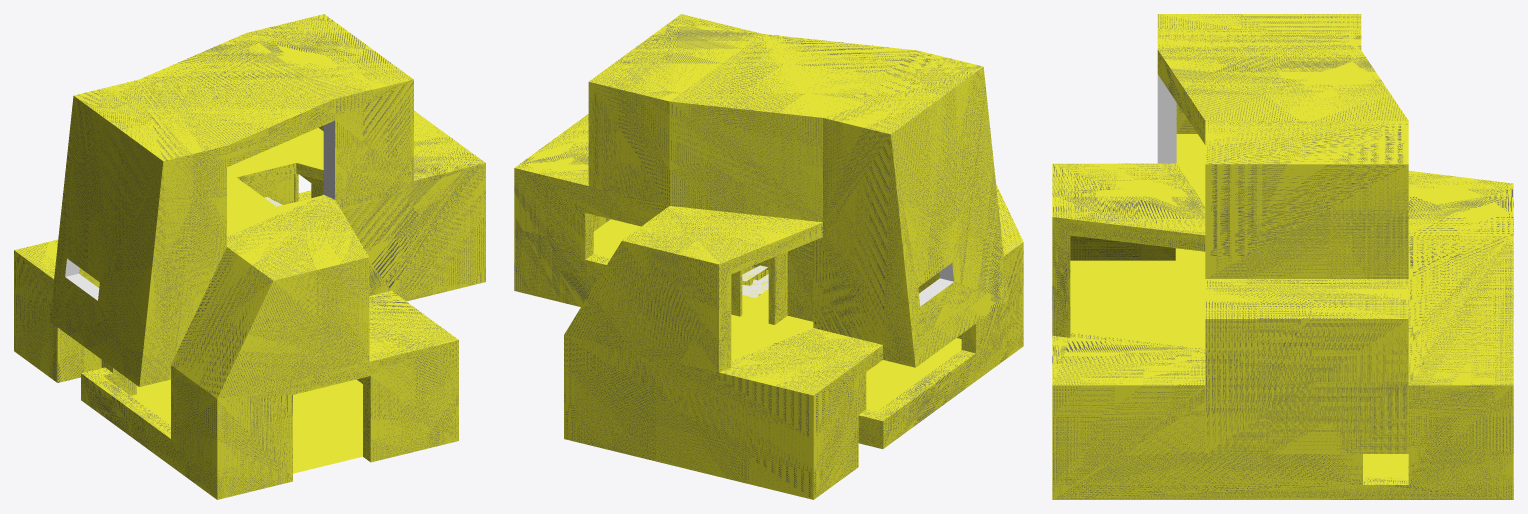
3 renders of one model, left to right at view 1: azimuth 30°, elevation 25°; view 2: azimuth 150°, elevation 25°; view 3: azimuth 270°, elevation 25°, orthographic. The views are drawn at different scales.
Visible parts, largest first — view 1: skeleton (×4), room_G, room_U; view 2: skeleton (×2), room_G, room_E, room_L, room_S; view 3: skeleton (×2), room_P, room_U, room_G.
Boxes of the visible parts, x1,y1,x2,y2 form: skeleton (×4): (14, 14, 485, 499); room_G: (131, 379, 362, 473); room_U: (227, 128, 323, 236); skeleton (×2): (514, 14, 1023, 499); room_G: (866, 338, 961, 411); room_E: (731, 314, 813, 360); room_L: (593, 219, 640, 257); room_S: (740, 289, 768, 323); skeleton (×2): (1052, 14, 1513, 499); room_P: (1070, 248, 1205, 348); room_U: (1176, 134, 1205, 205); room_G: (1363, 454, 1408, 477).
Bounding box in the file's own units: 420 × 402 × 335.
